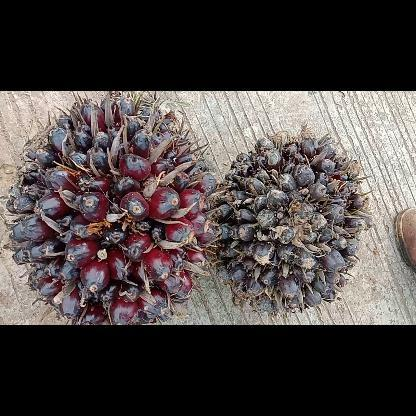TBS mentah: (0, 98, 217, 324), (207, 128, 375, 312)
